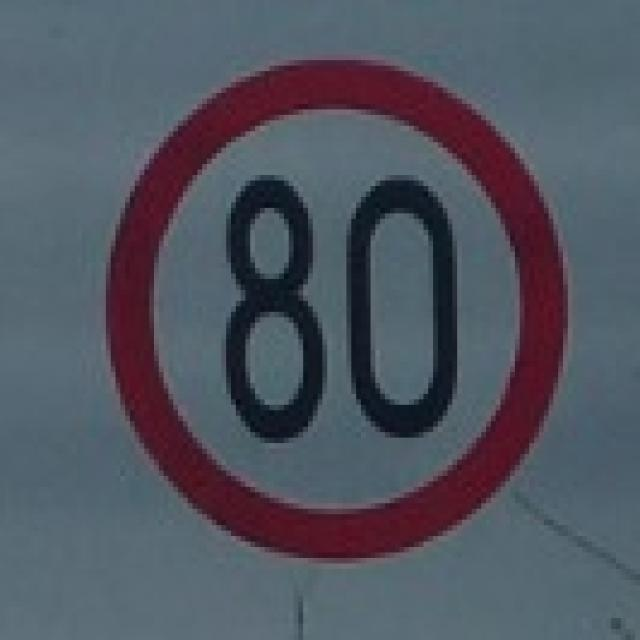Speed Limit -80-: (218, 171, 458, 447)
